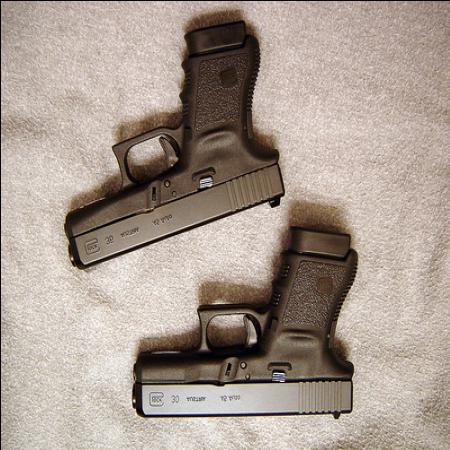Pistol: (62, 20, 283, 274), (126, 228, 359, 421)
